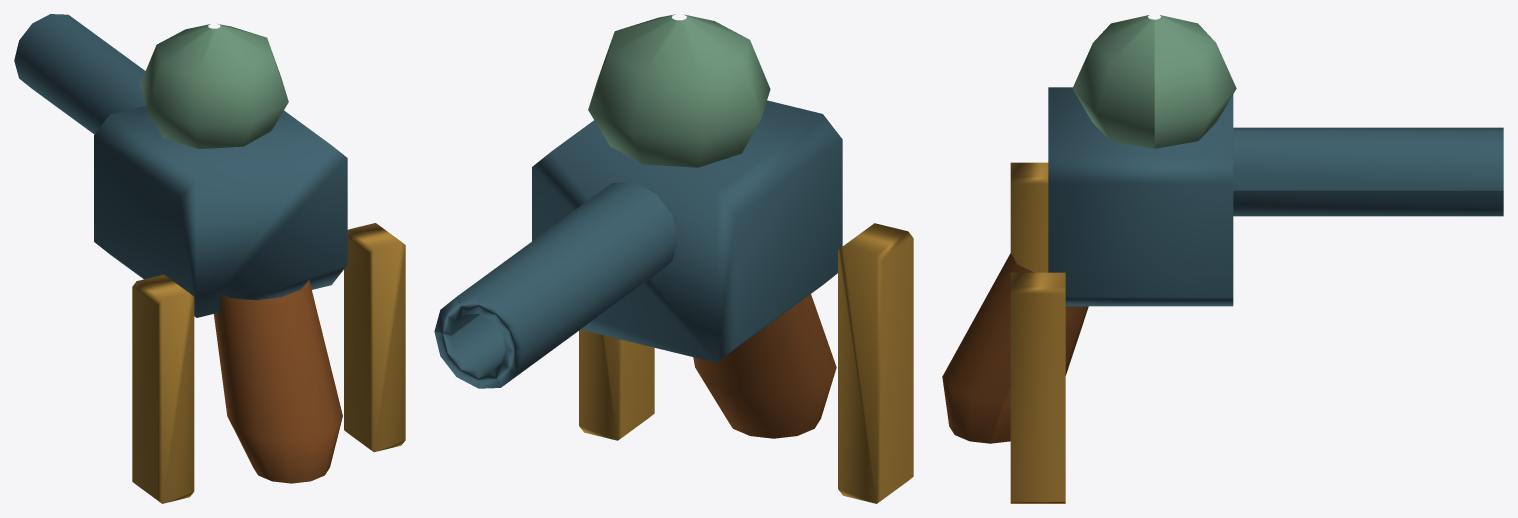
The model's file is weapon_fire-turret.glb.
The picture shows the model from 3 angles, left to right: view 1: azimuth 30°, elevation 25°; view 2: azimuth 150°, elevation 25°; view 3: azimuth 270°, elevation 25°; orthographic projection. The views are drawn at different scales.
Parts seen in each view (by area): view 1: FoldedTurretBody, Grip, TurretSensor, FoldedLeg-1, FoldedLeg1, TurretBarrel; view 2: FoldedTurretBody, TurretBarrel, TurretSensor, FoldedLeg-1, Grip, FoldedLeg1; view 3: FoldedTurretBody, TurretBarrel, TurretSensor, FoldedLeg1, Grip, FoldedLeg-1.
Boxes of the visible parts, x1,y1,x2,y2 form: FoldedTurretBody: [94, 106, 347, 317]; Grip: [214, 279, 342, 483]; TurretSensor: [140, 24, 288, 148]; FoldedLeg-1: [132, 274, 194, 503]; FoldedLeg1: [344, 223, 405, 452]; TurretBarrel: [14, 14, 146, 134]; FoldedTurretBody: [532, 100, 842, 362]; TurretBarrel: [434, 182, 678, 388]; TurretSensor: [588, 14, 770, 167]; FoldedLeg-1: [838, 223, 913, 503]; Grip: [693, 294, 836, 438]; FoldedLeg1: [579, 329, 654, 440]; FoldedTurretBody: [1048, 87, 1233, 306]; TurretBarrel: [1233, 127, 1503, 216]; TurretSensor: [1072, 15, 1236, 148]; FoldedLeg1: [1010, 272, 1065, 503]; Grip: [942, 253, 1088, 443]; FoldedLeg-1: [1010, 162, 1048, 272].
Size of the model in its own units: 0.445 by 0.685 by 0.82.
